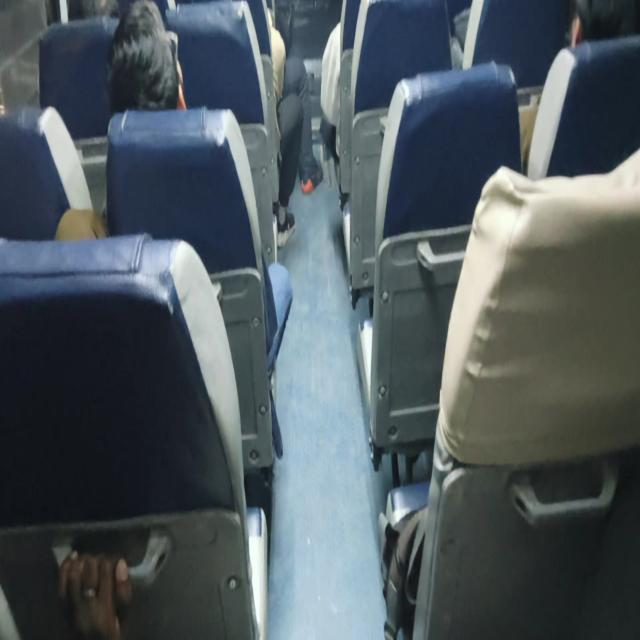person: (108, 0, 190, 124), (556, 0, 640, 64)
